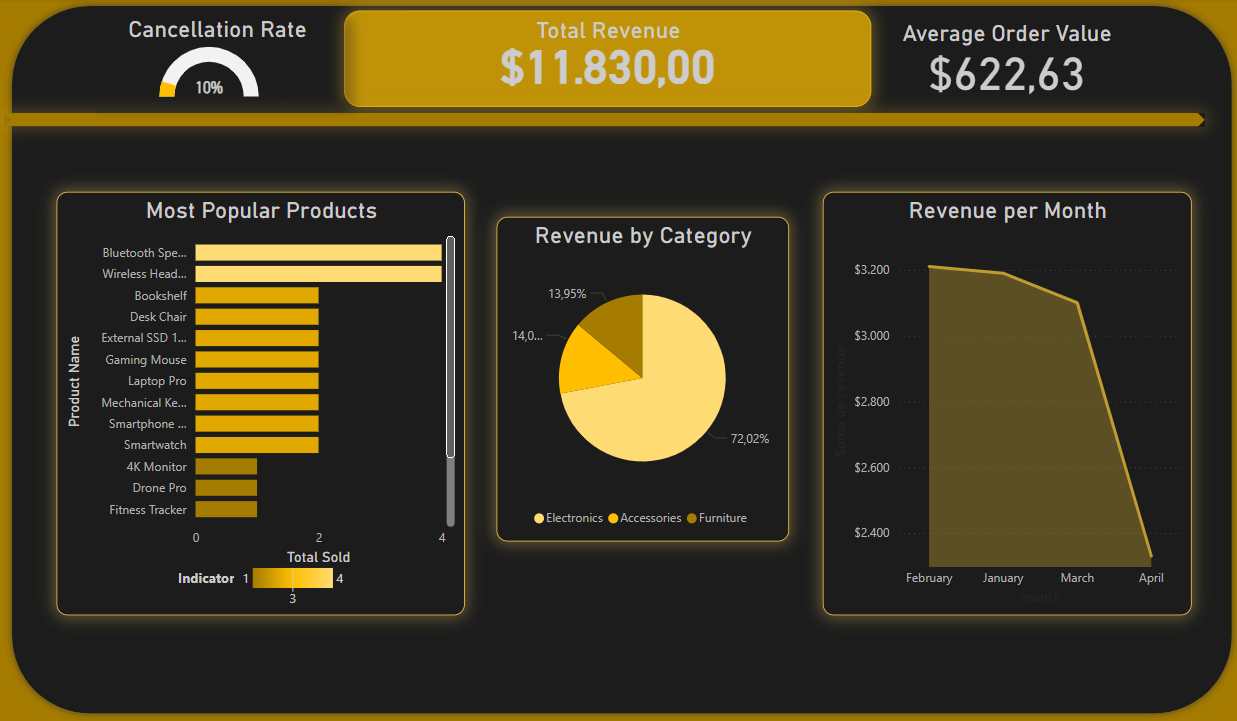

The page's visual inventory and layout, read from the dashboard file:
{"tool":"powerbi","page":{"name":"Página 1","canvas":[1280,720],"ordinal":0},"visuals":[{"type":"shape","box":[49.8,0,1230.3,720.3],"z":0},{"type":"card","title":"Total Revenue","fields":{"Values":["Sum(total_revenue.total_revenue)"]},"box":[388.1,12.4,525,95.8],"z":1000},{"type":"card","title":"Average Order Value","fields":{"Values":["Sum(average_order_value.avg_order_value)"]},"box":[901.9,21.1,292.3,93.3],"z":2000},{"type":"lineChart","title":"Revenue per Month","fields":{"Y":["Sum(monthly_revenue.revenue)"],"Category":["monthly_revenue.month"]},"box":[864.6,192.8,367,421.7],"z":3000},{"type":"pieChart","title":"Revenue by Category","fields":{"Y":["Sum(revenue_by_category.revenue)"],"Category":["revenue_by_category.category"]},"box":[539.9,217.7,291.1,323.4],"z":4000},{"type":"clusteredBarChart","title":"Most Popular Products","fields":{"Y":["Sum(most_popular_products.total_sold)"],"Category":["most_popular_products.product_name"]},"box":[102,192.8,406.8,421.7],"z":5000},{"type":"shape","box":[49.8,114.4,1195.4,13.7],"z":6000},{"type":"gauge","title":"Cancellation Rate","fields":{"Y":["Sum(cancellation_rate.cancellation_rate_percent)"]},"box":[136.8,17.4,251.3,85.8],"z":7000}]}

Visuals, with their boxes in screenshot pixels (x1, y1, x2, y2):
shape: (11, 0, 1226, 712)
"Total Revenue" card: (345, 12, 864, 107)
"Average Order Value" card: (852, 21, 1141, 113)
"Revenue per Month" lineChart: (816, 190, 1178, 607)
"Revenue by Category" pieChart: (495, 215, 782, 535)
"Most Popular Products" clusteredBarChart: (62, 190, 464, 607)
shape: (11, 113, 1192, 127)
"Cancellation Rate" gauge: (97, 17, 345, 102)
